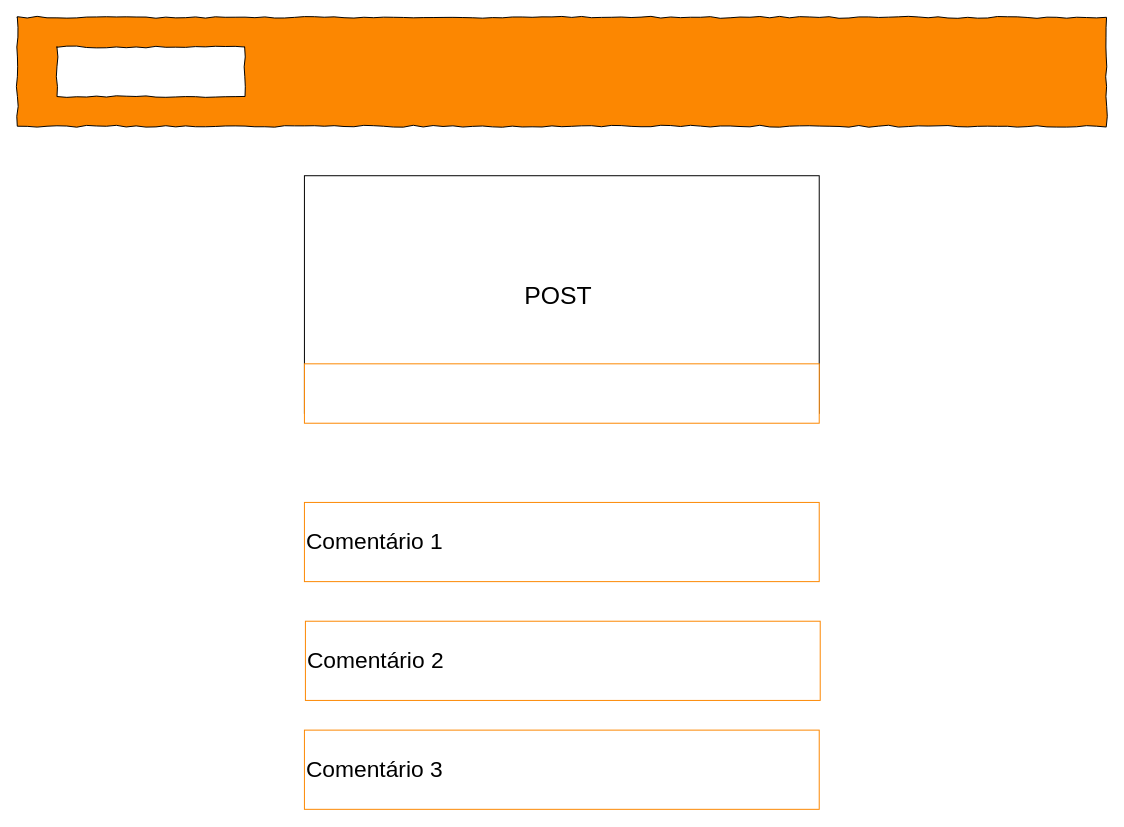
This 1124x827 diagram has some shape labels left out. The centre of each missing label's shape, as x and y in pixels:
"150 Likes 100 Comentarios" belongs at (561,393).
"LOGO" belongs at (150,71).
